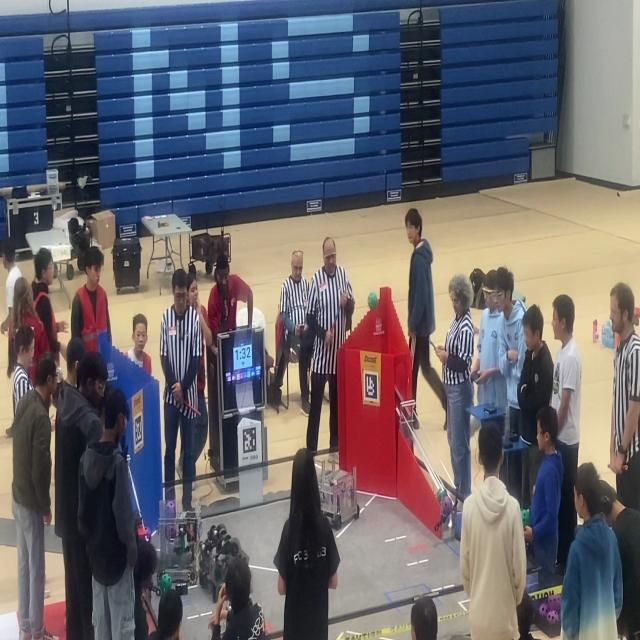artifact_green: (441, 494, 452, 517), (160, 573, 172, 594), (548, 594, 561, 612), (367, 292, 378, 310), (214, 564, 223, 583), (547, 610, 559, 624), (437, 488, 446, 503), (522, 510, 530, 526), (437, 489, 441, 501)
artifact_purple: (548, 595, 561, 612), (442, 495, 452, 517), (547, 610, 559, 624), (166, 501, 175, 519), (539, 603, 549, 617), (167, 524, 176, 539), (145, 527, 151, 541)
